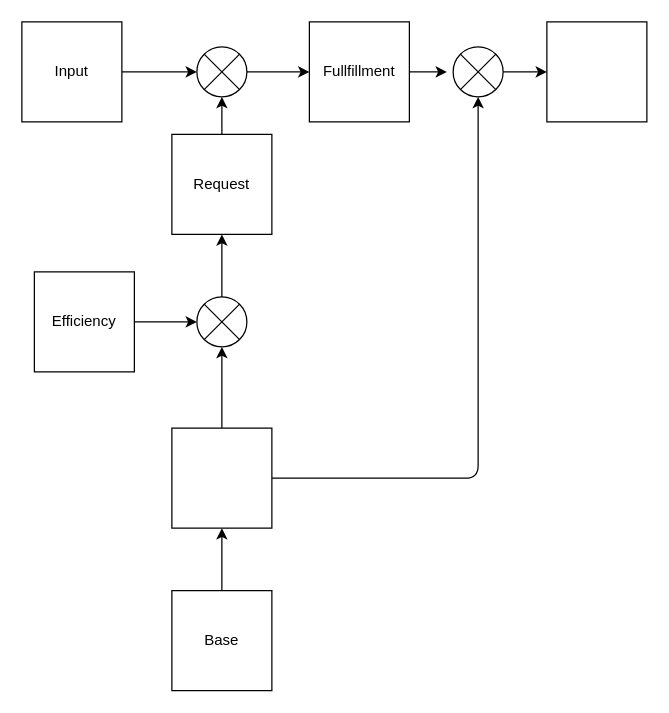
Some shapes in this 669 by 713 pixel diagram are drawn without their labels. Here are the shapes that lost their labels. From the top down, the centre of each, then its label:
At (x=596, y=71): "Output".
At (x=221, y=477): "Throughput".
